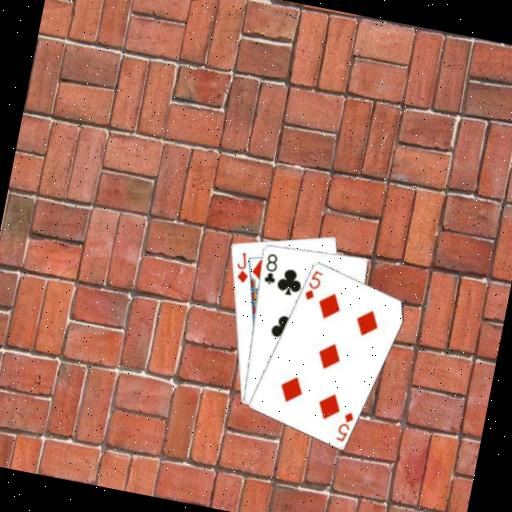5D: (300, 266, 325, 303), (333, 407, 357, 445)
8C: (259, 249, 282, 287)
JD: (230, 248, 254, 286)
